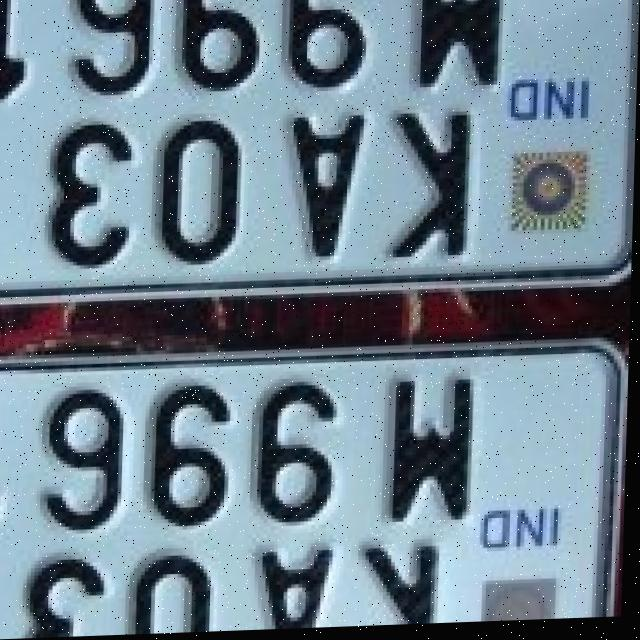plate: (0, 0, 640, 313), (0, 342, 632, 640)
